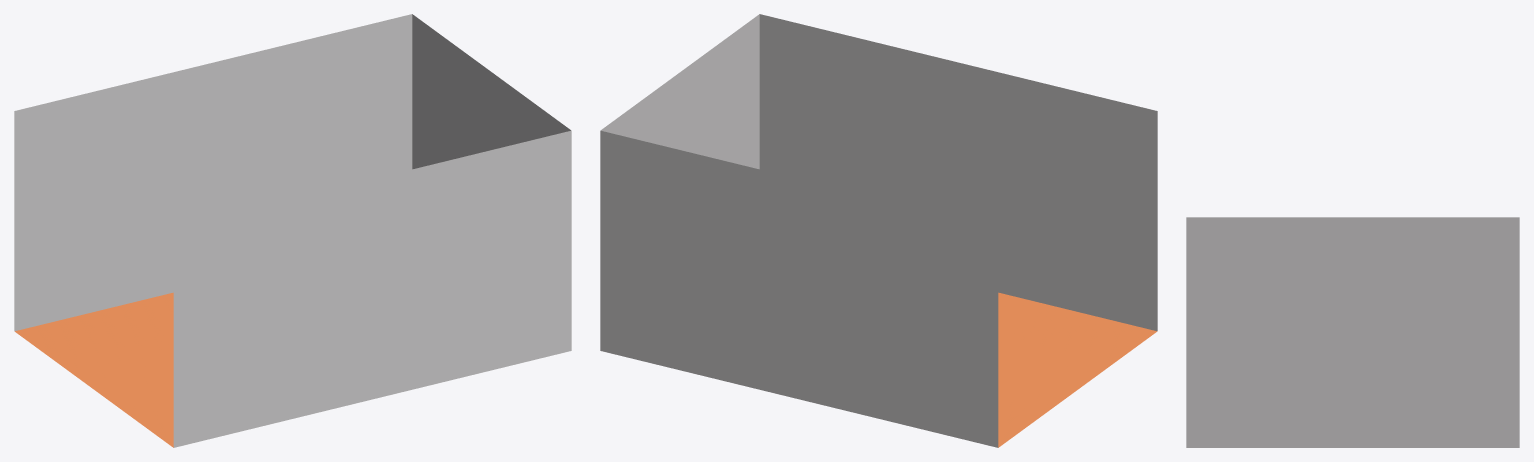
Rendered from room-transformed.glb.
3 views of the same model, side by side, from view 1: azimuth 30°, elevation 25°; view 2: azimuth 150°, elevation 25°; view 3: azimuth 270°, elevation 25° (orthographic). The views are drawn at different scales.
Visible parts, largest first — view 1: USBPortInner; view 2: USBPortInner; view 3: USBPortInner.
Part boxes in pixels (bbox=[...]): USBPortInner: bbox=[14, 14, 571, 447]; USBPortInner: bbox=[600, 14, 1157, 447]; USBPortInner: bbox=[1186, 217, 1519, 447].
Bounding box in the file's own units: 448 × 237 × 310.
9 materials, 9 textured.
